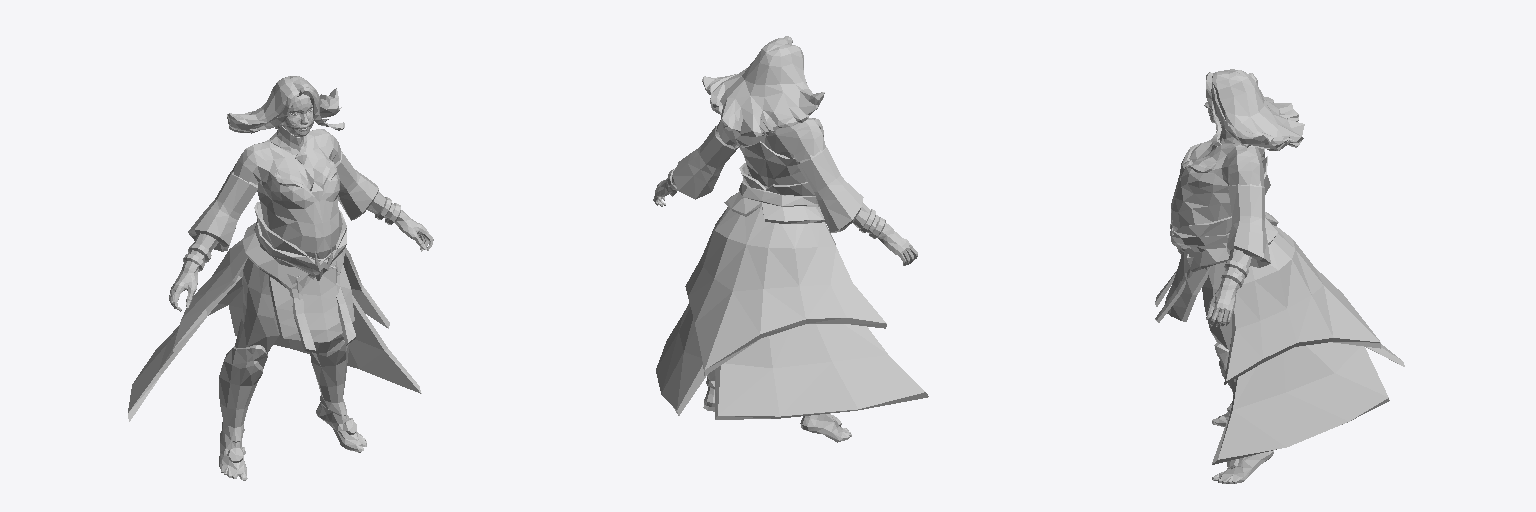
Rendered from lina_statue_000006.obj.
3 views of the same model, side by side, from view 1: azimuth 30°, elevation 25°; view 2: azimuth 150°, elevation 25°; view 3: azimuth 270°, elevation 25° (orthographic).
Parts seen in each view (by area): view 1: lina_body.001_lina_body; view 2: lina_body.001_lina_body; view 3: lina_body.001_lina_body.
Part boxes in pixels (x1,y1,x2,y2): lina_body.001_lina_body: (128,76,433,480); lina_body.001_lina_body: (653,36,928,442); lina_body.001_lina_body: (1155,69,1404,483).
Bounding box in the file's own units: 141 × 179 × 106.